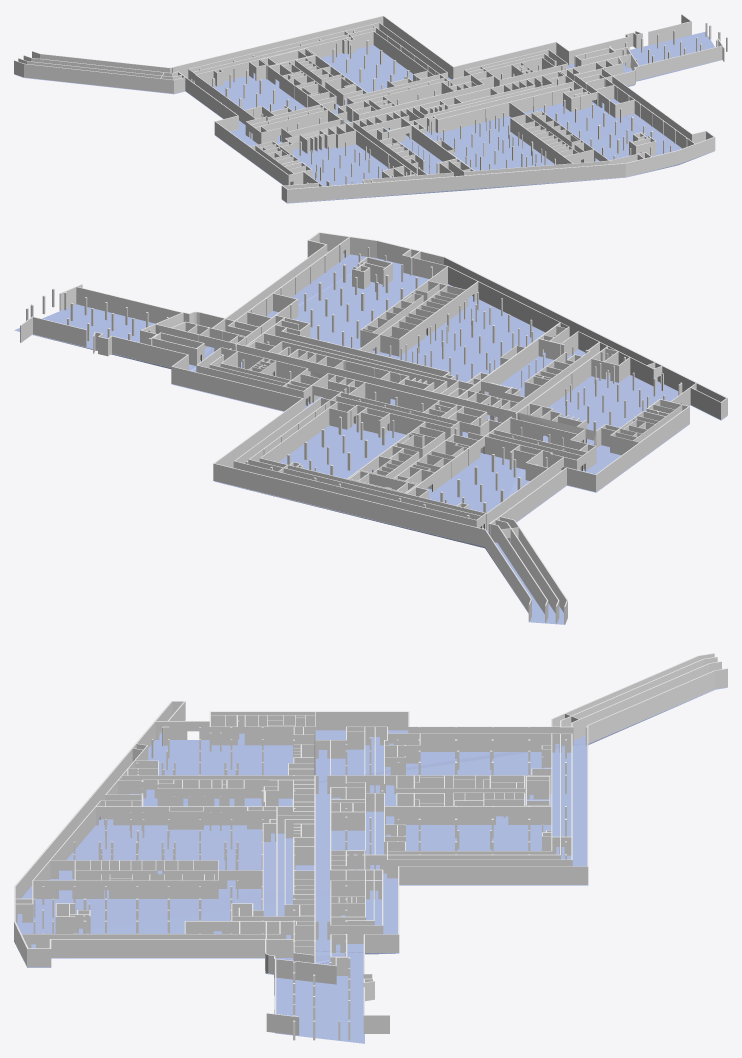
File: Ebene 98.fbx
The picture shows the model from 3 angles, top to bottom: view 1: azimuth 30°, elevation 25°; view 2: azimuth 150°, elevation 25°; view 3: azimuth 270°, elevation 25°; orthographic projection. The views are drawn at different scales.
Visible parts, largest first — view 1: Farbe, weiß, Farbe, hellblau; view 2: Farbe, weiß, Farbe, hellblau; view 3: Farbe, weiß, Farbe, hellblau.
Part boxes in pixels (x1,y1,x2,y2): Farbe, weiß: (14, 14, 727, 202); Farbe, hellblau: (14, 31, 721, 203); Farbe, weiß: (20, 232, 727, 624); Farbe, hellblau: (14, 251, 727, 624); Farbe, weiß: (14, 653, 727, 1040); Farbe, hellblau: (14, 687, 727, 1043).
Size of the model in its own units: 21036 by 17076 by 536.
